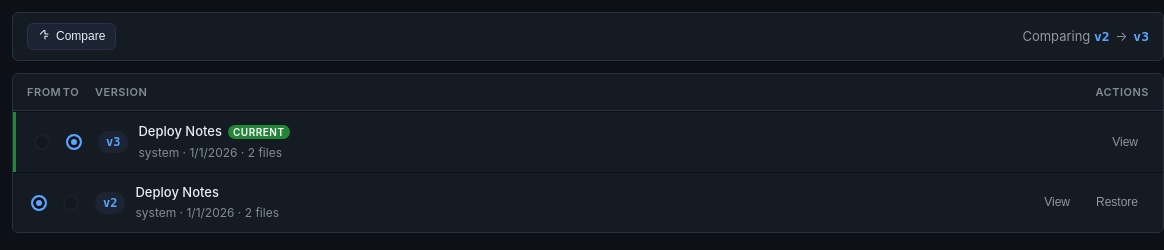
Test: VersionHistory bundle actions › stays out of the way for a single-file version
The image size is (1164, 250).
Click the button with aria-label "View version 3" at (1125, 142), box [1101,129,1149,155]
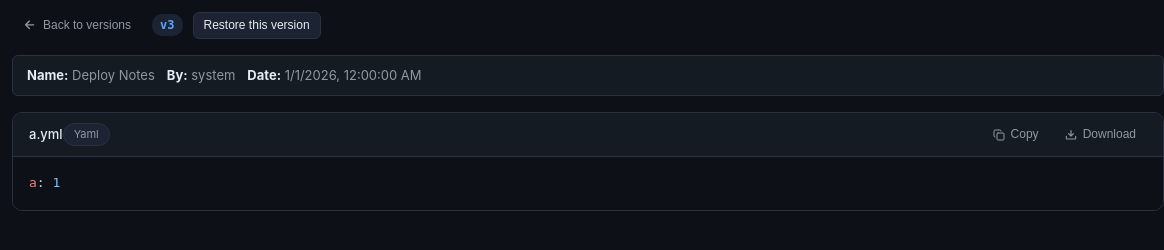
Result: the text "a.yml" is shown at [29,125,63,144]
